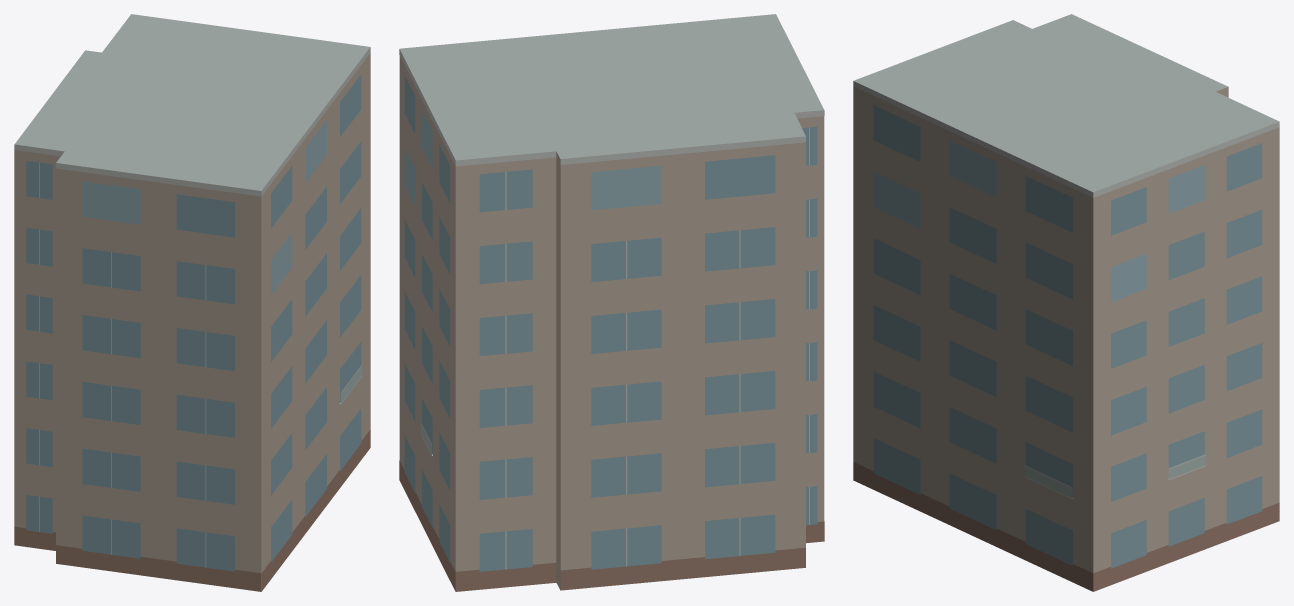
Rendered from survey-upis-32943842.glb.
3 renders of one model, left to right at view 1: azimuth 30°, elevation 25°; view 2: azimuth 150°, elevation 25°; view 3: azimuth 270°, elevation 25°, orthographic. The views are drawn at different scales.
Parts seen in each view (by area): view 1: survey-upis-32943842.tmp; view 2: survey-upis-32943842.tmp; view 3: survey-upis-32943842.tmp.
Part boxes in pixels (left/top/right/bottom): survey-upis-32943842.tmp: left=14, top=14, right=370, bottom=591; survey-upis-32943842.tmp: left=399, top=14, right=824, bottom=591; survey-upis-32943842.tmp: left=853, top=14, right=1279, bottom=591.
Size of the model in its own units: 16.87 by 17.6 by 17.03.
